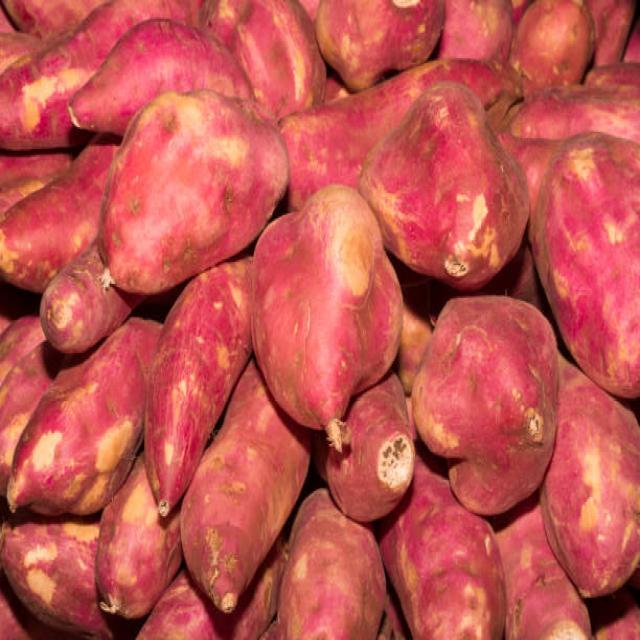sweet potato: (247, 192, 400, 434), (418, 293, 556, 508), (98, 92, 248, 286), (387, 82, 528, 284), (554, 128, 640, 390), (6, 348, 131, 523), (187, 444, 287, 610), (145, 283, 212, 518), (396, 508, 508, 640), (284, 507, 386, 640)
